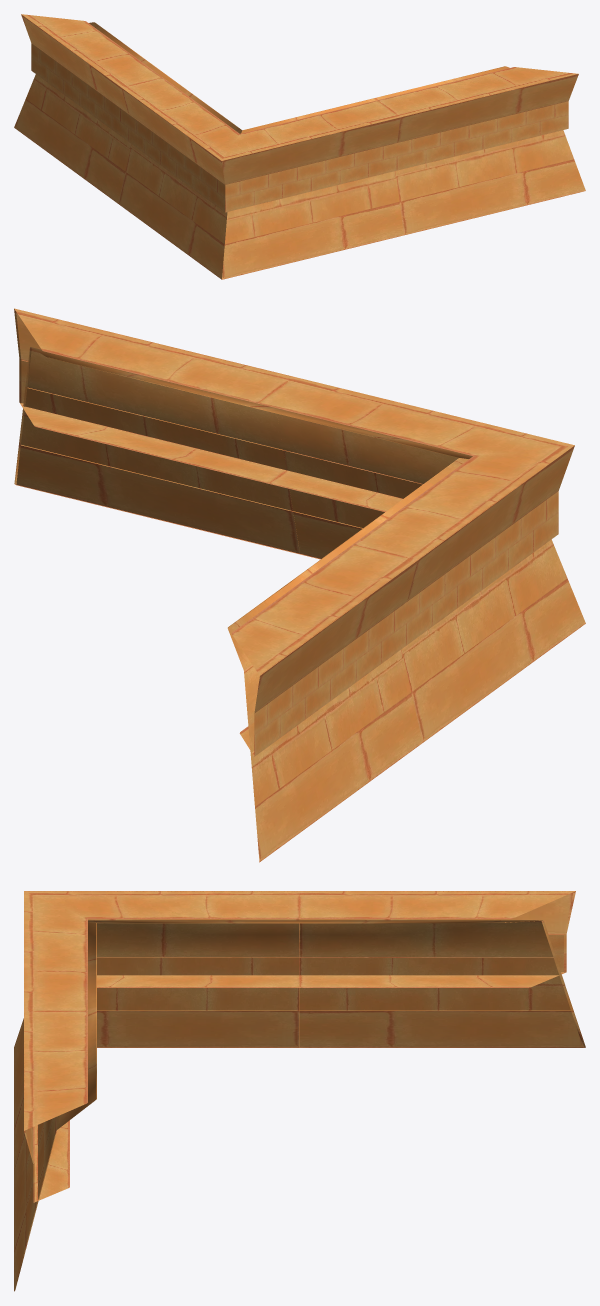
The model's file is temple-floor03-cut.glb.
3 renders of one model, top to bottom at view 1: azimuth 30°, elevation 25°; view 2: azimuth 150°, elevation 25°; view 3: azimuth 270°, elevation 25°, orthographic. The views are drawn at different scales.
Visible parts, largest first — view 1: TempleFloor03_Cut; view 2: TempleFloor03_Cut; view 3: TempleFloor03_Cut.
Boxes of the visible parts, left/top/right/bottom form: TempleFloor03_Cut: left=14, top=14, right=585, bottom=279; TempleFloor03_Cut: left=14, top=308, right=585, bottom=862; TempleFloor03_Cut: left=14, top=891, right=585, bottom=1291.
Bounding box in the file's own units: 49.08 × 14.86 × 48.56.
Materials: 1 (1 with a texture image).
